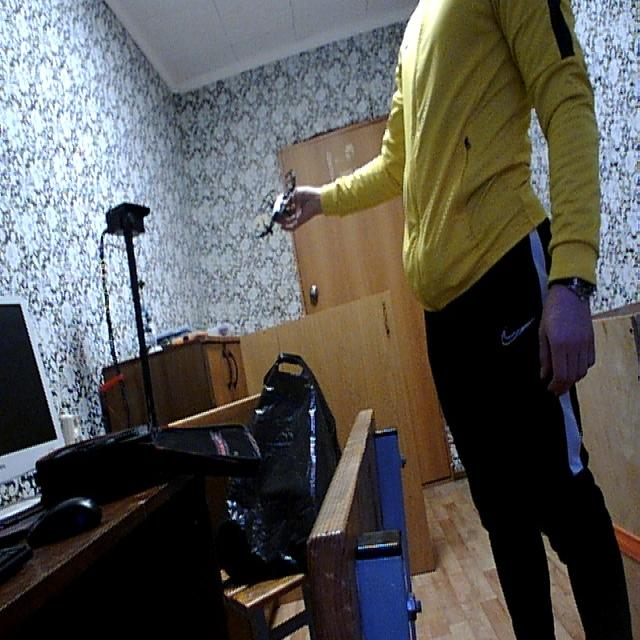drone: (251, 165, 306, 245)
